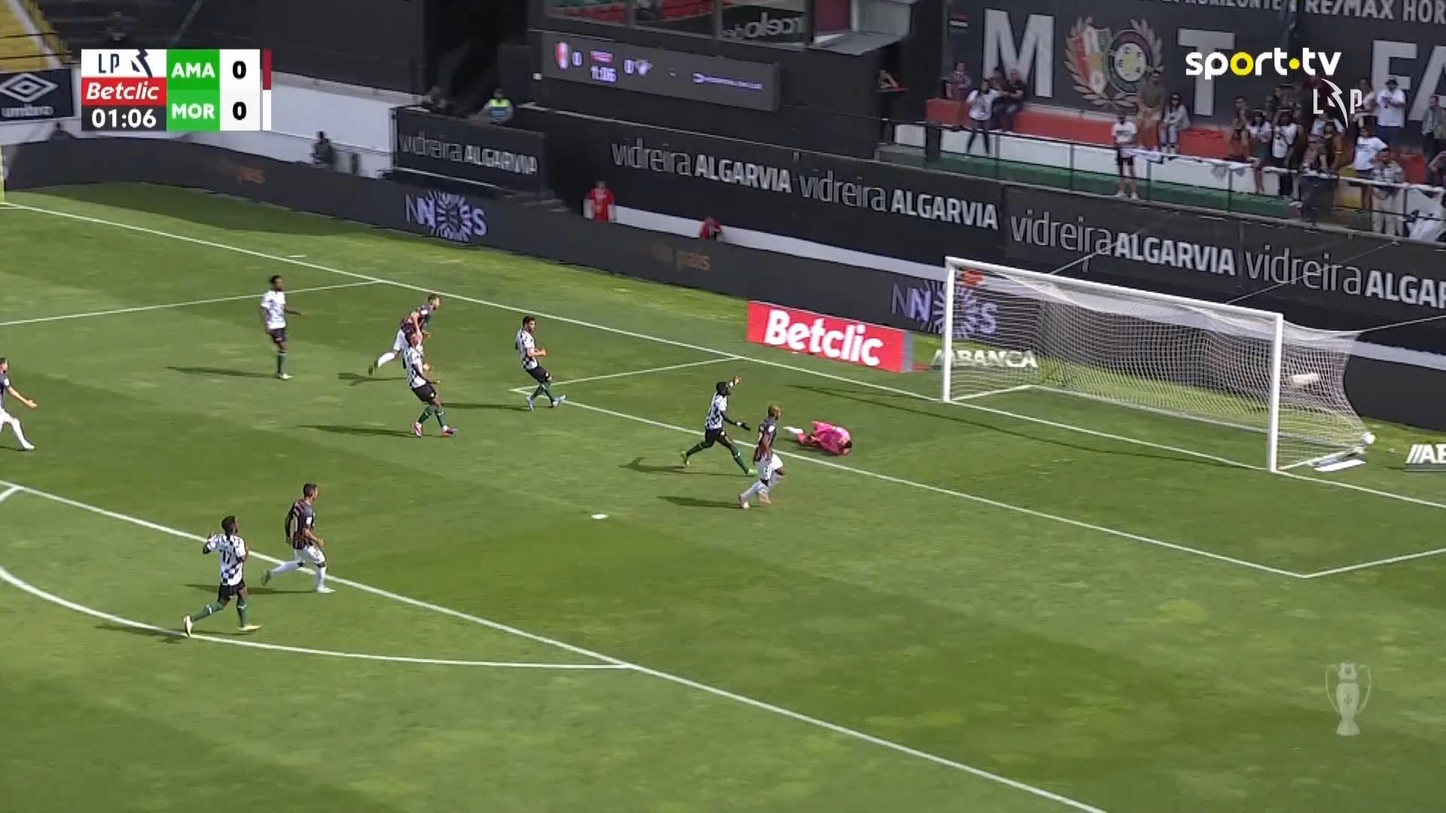ball: (1360, 431, 1376, 445)
goalkeeper: (782, 420, 853, 456)
player: (181, 513, 261, 638), (259, 481, 336, 593), (678, 374, 755, 477), (366, 292, 440, 376), (401, 339, 456, 437), (737, 403, 786, 508), (513, 315, 566, 410), (258, 273, 303, 379), (0, 355, 38, 451)
